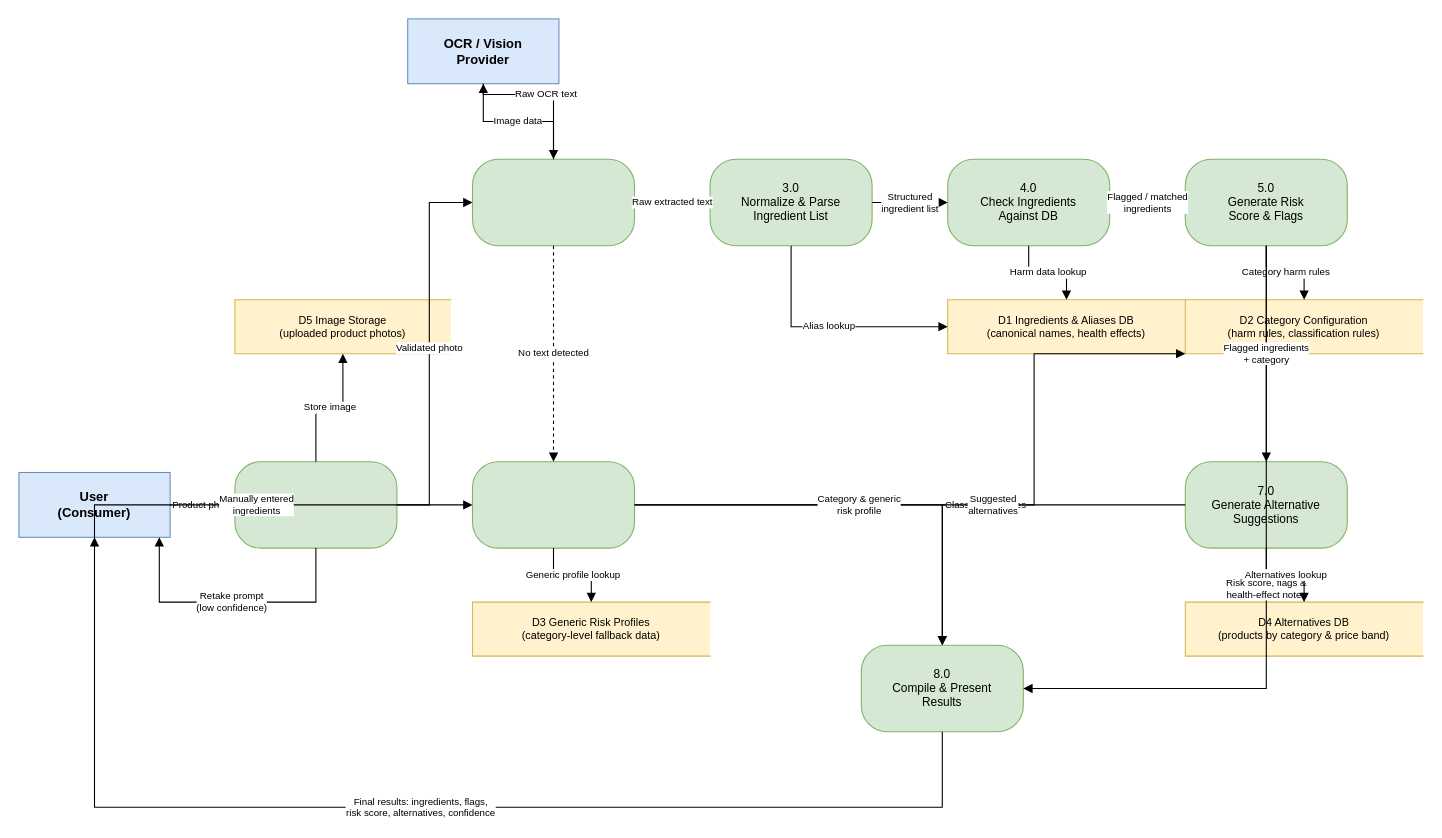
The diagram is 1442 pixels wide and 838 high, and some of its shapes have lost their labels. Each missing label, with the box of its shape:
1.0 Capture & Validate Photo: (234, 461, 397, 548)
2.0 Extract Ingredient Text (OCR): (471, 158, 634, 246)
6.0 Classify Product Sub-Category (Fallback): (471, 461, 634, 548)
